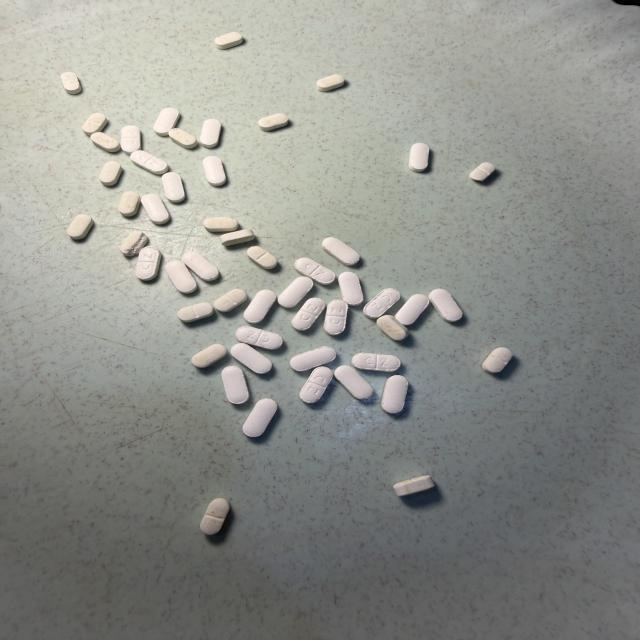pill: (334, 366, 374, 399), (243, 399, 277, 437), (231, 343, 272, 373), (300, 367, 333, 403), (363, 288, 399, 319), (236, 326, 282, 350), (290, 347, 336, 371), (429, 289, 462, 322), (292, 298, 325, 331), (278, 277, 313, 308), (200, 498, 229, 535), (182, 252, 219, 281), (322, 237, 360, 265), (244, 290, 276, 323), (295, 258, 335, 284), (222, 366, 249, 404), (381, 375, 408, 413), (165, 261, 197, 293), (396, 294, 428, 325), (352, 353, 400, 372), (131, 150, 168, 174), (136, 246, 161, 280), (324, 300, 348, 335), (141, 194, 169, 224), (192, 344, 227, 368), (338, 272, 363, 305), (394, 476, 434, 496), (377, 315, 408, 340), (214, 289, 247, 312), (482, 348, 512, 373), (162, 172, 185, 203), (120, 231, 148, 256), (154, 108, 179, 136), (247, 246, 277, 269), (203, 156, 226, 186), (178, 303, 214, 322), (67, 214, 93, 239), (200, 119, 221, 148), (90, 132, 120, 152), (82, 112, 107, 136), (121, 125, 141, 154), (409, 143, 429, 172), (99, 161, 122, 186), (169, 128, 197, 148), (119, 191, 140, 217), (220, 230, 254, 246), (204, 217, 238, 232), (258, 114, 288, 131), (214, 32, 242, 49), (317, 74, 344, 91), (470, 163, 495, 181), (61, 72, 81, 94)
